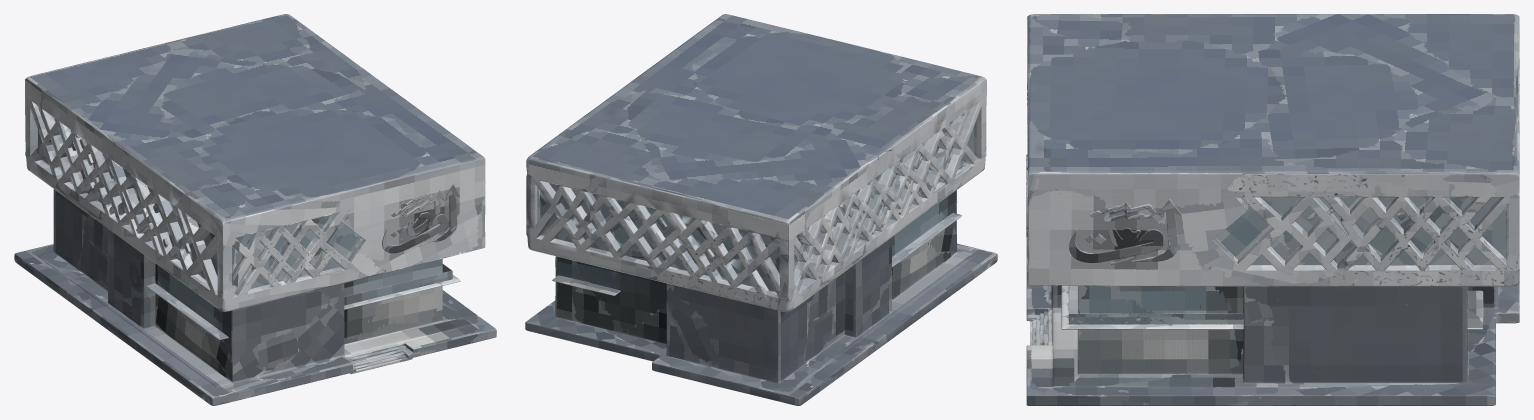
The model's file is shape-opt.glb.
3 views of the same model, side by side, from view 1: azimuth 30°, elevation 25°; view 2: azimuth 150°, elevation 25°; view 3: azimuth 270°, elevation 25° (orthographic). The views are drawn at different scales.
Visible parts, largest first — view 1: node_0; view 2: node_0; view 3: node_0.
Part boxes in pixels (<box>): node_0: <box>14,14,496,405</box>; node_0: <box>525,14,997,405</box>; node_0: <box>1026,14,1519,405</box>.
Bounding box in the file's own units: 0.7153 × 0.446 × 0.8654.
1 material, 1 textured.
